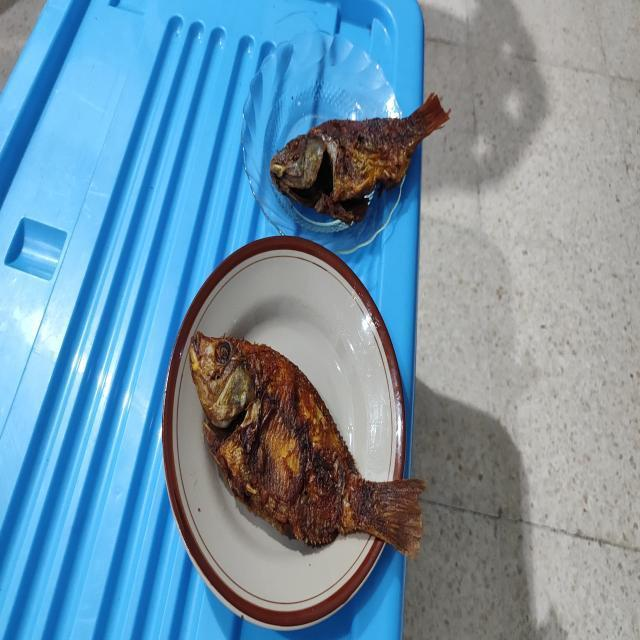ikan_mujair: (190, 331, 424, 558), (270, 94, 449, 225)
